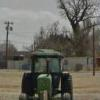Tractor: (14, 41, 84, 100)
